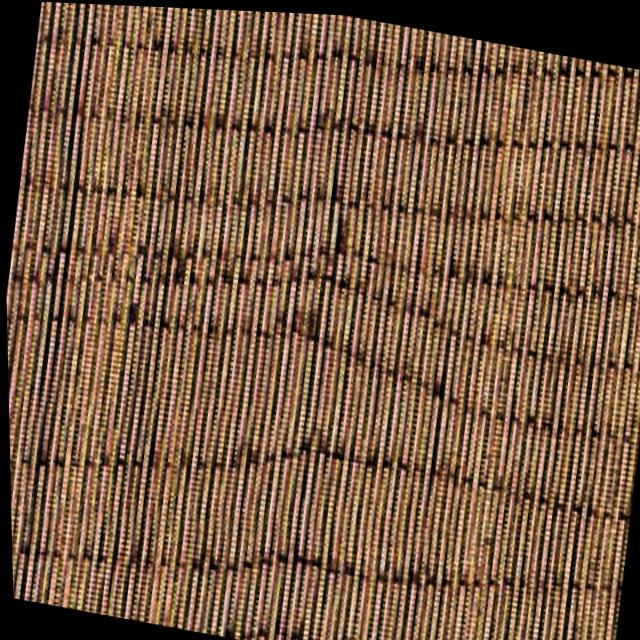Stitch: (3, 159, 470, 442)
